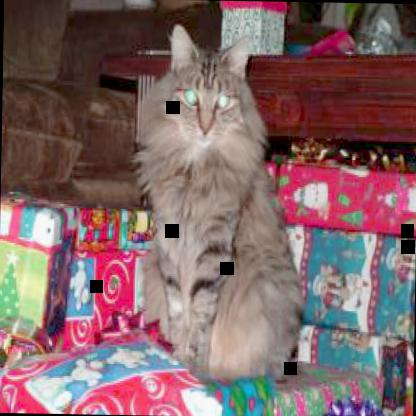cat: (137, 24, 303, 378)
